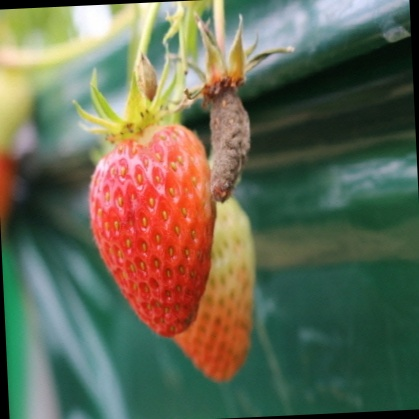Gray_Mold: (201, 75, 255, 205)
